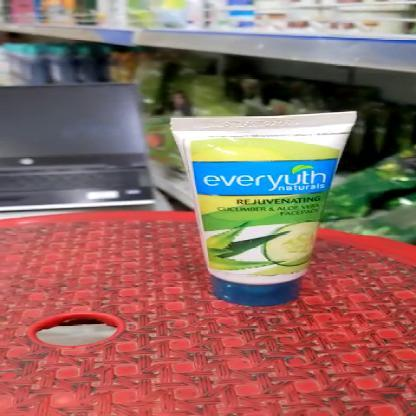EY RJ CUCUMBER ALOEVERA FACEPAK50G: (174, 113, 360, 307)
